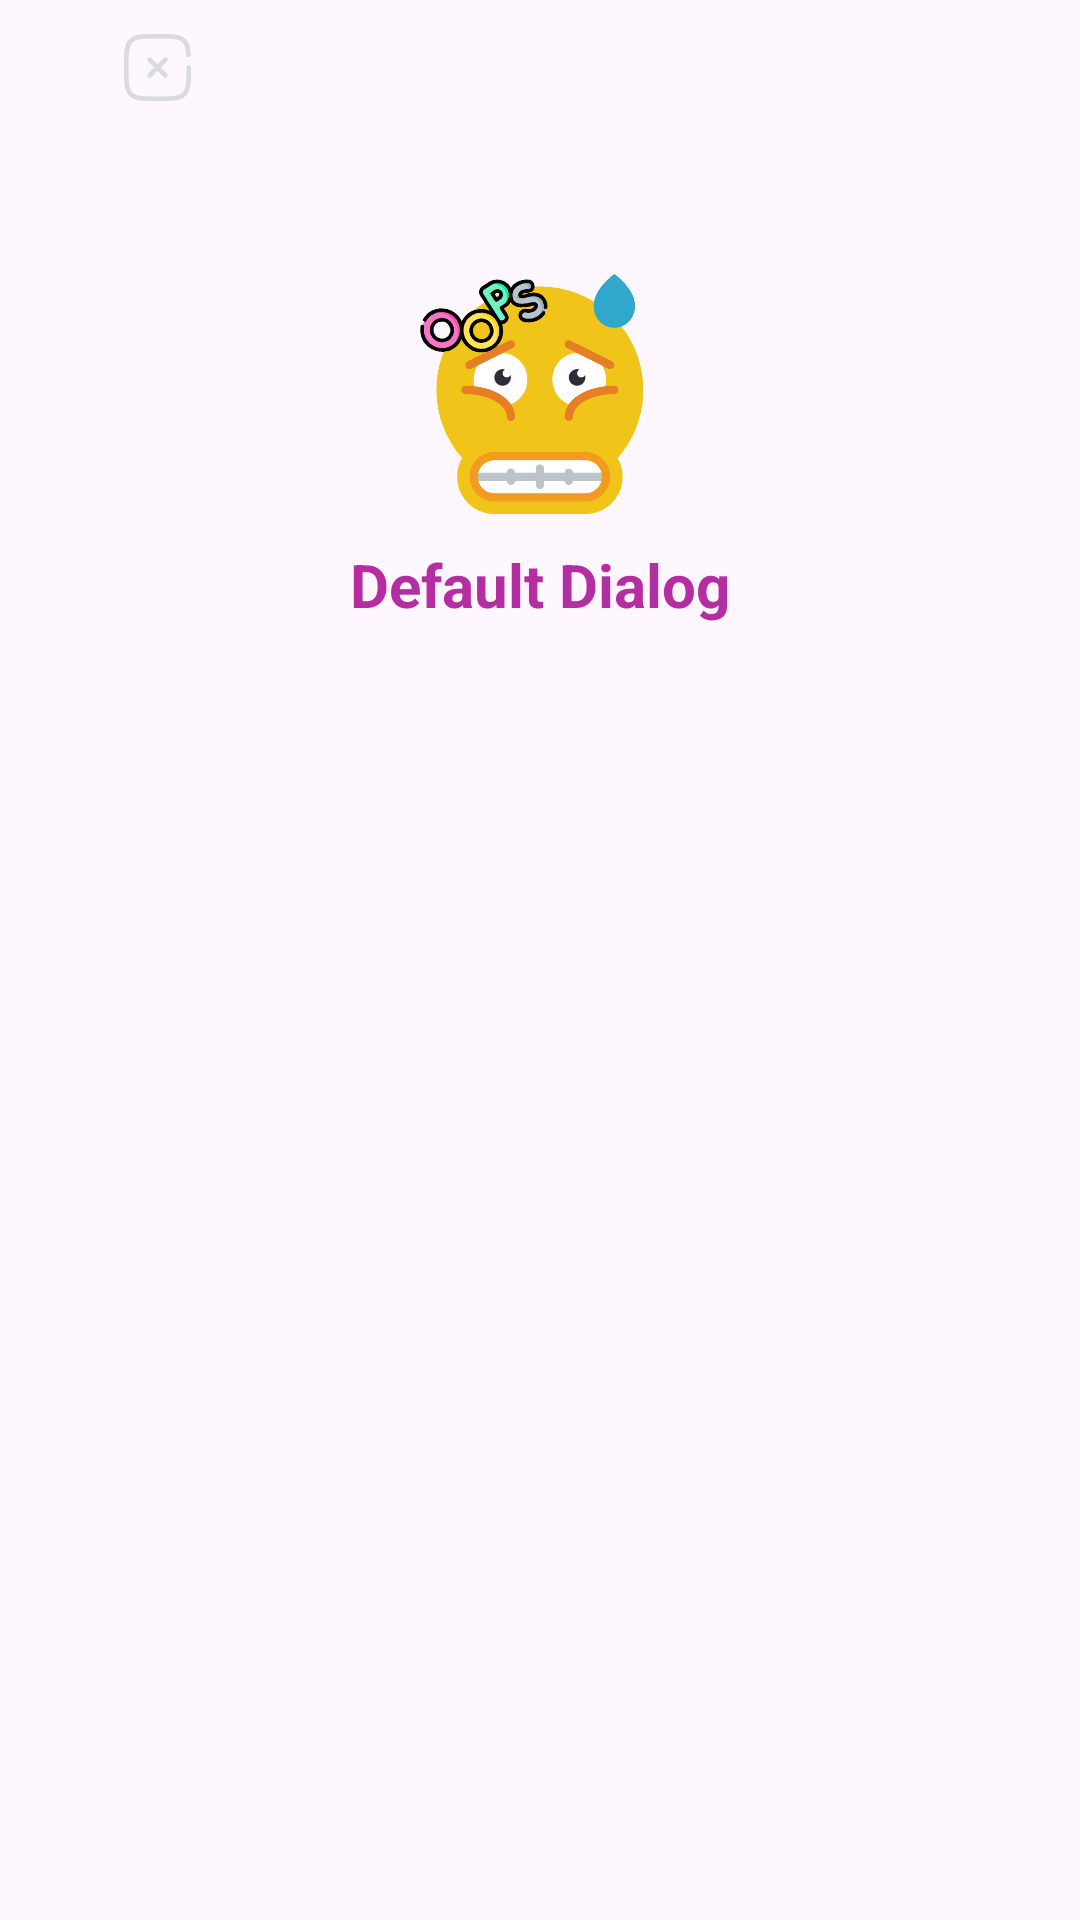

Where to tap for icons on this 1080 × 1920 app screen, as (x=x, y=y):
close: (x=157, y=67)
